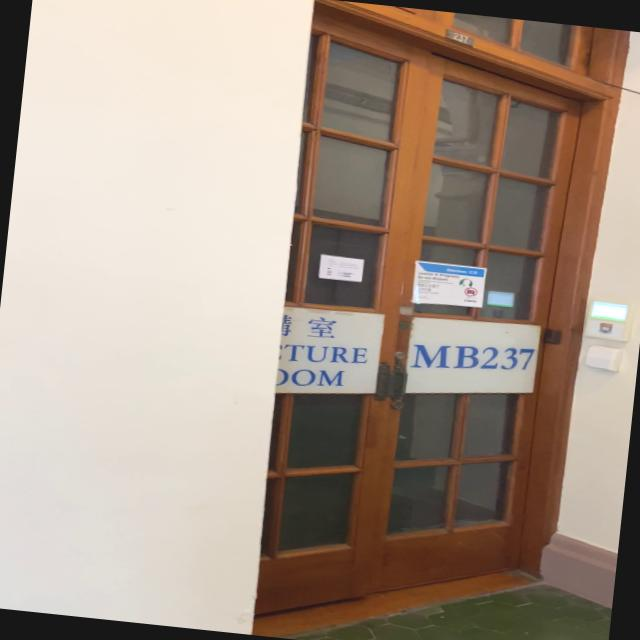room237: (440, 28, 477, 48)
room237Window: (411, 335, 536, 380)
